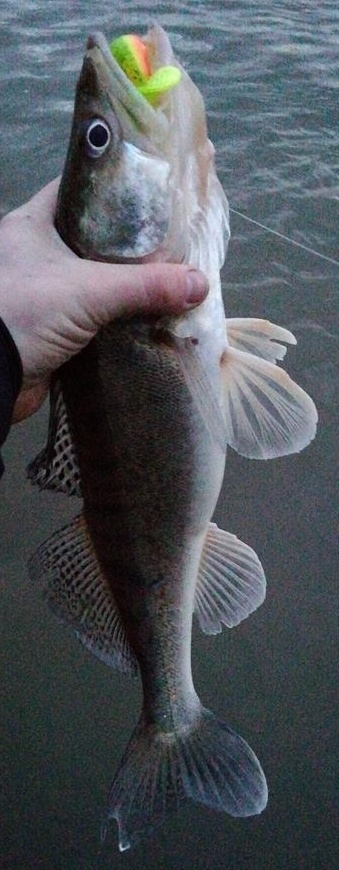Sander lucioperca: (20, 20, 319, 850)
